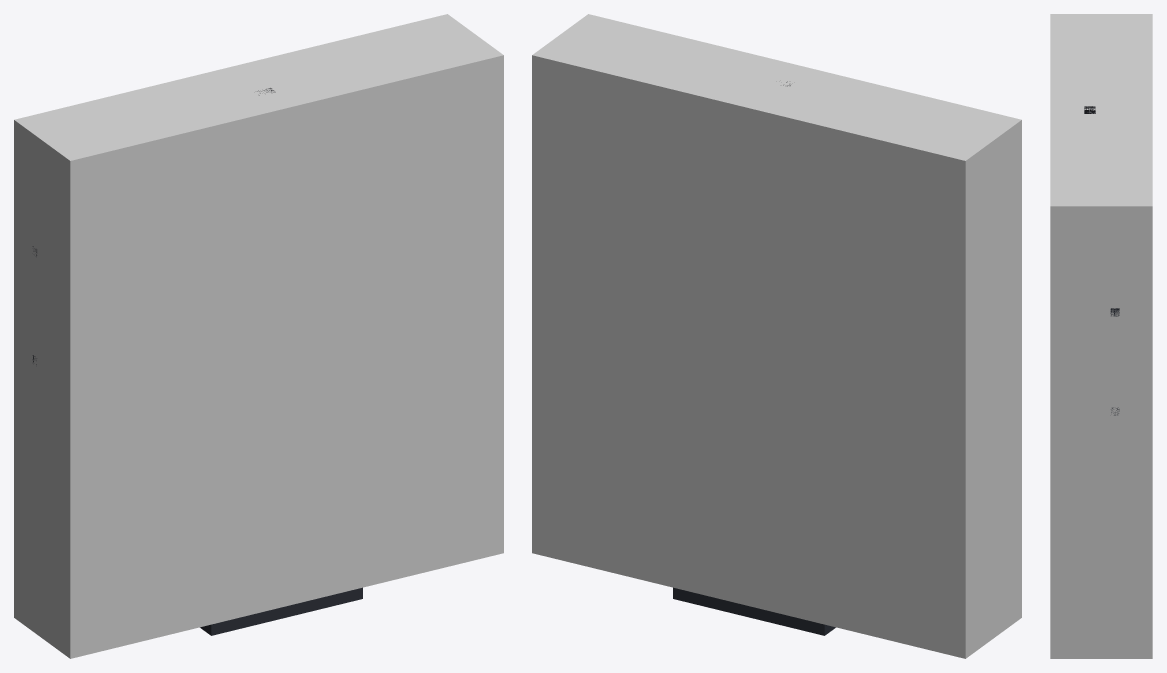
Rendered from Tech_MonitorWall_A.001.gltf.
3 views of the same model, side by side, from view 1: azimuth 30°, elevation 25°; view 2: azimuth 150°, elevation 25°; view 3: azimuth 270°, elevation 25° (orthographic). The views are drawn at different scales.
Visible parts, largest first — view 1: Tech_MonitorWall_A.001_COL, Tech_MonitorWall_A.001; view 2: Tech_MonitorWall_A.001_COL, Tech_MonitorWall_A.001; view 3: Tech_MonitorWall_A.001_COL, Tech_MonitorWall_A.001.
Boxes of the visible parts, x1,y1,x2,y2 form: Tech_MonitorWall_A.001_COL: (14, 14, 503, 658); Tech_MonitorWall_A.001: (32, 88, 362, 635); Tech_MonitorWall_A.001_COL: (532, 14, 1021, 658); Tech_MonitorWall_A.001: (673, 81, 835, 635); Tech_MonitorWall_A.001_COL: (1050, 14, 1152, 658); Tech_MonitorWall_A.001: (1084, 106, 1119, 415).
Size of the model in its own units: 2 by 2.25 by 0.45.
Materials: 11 (5 with a texture image).
